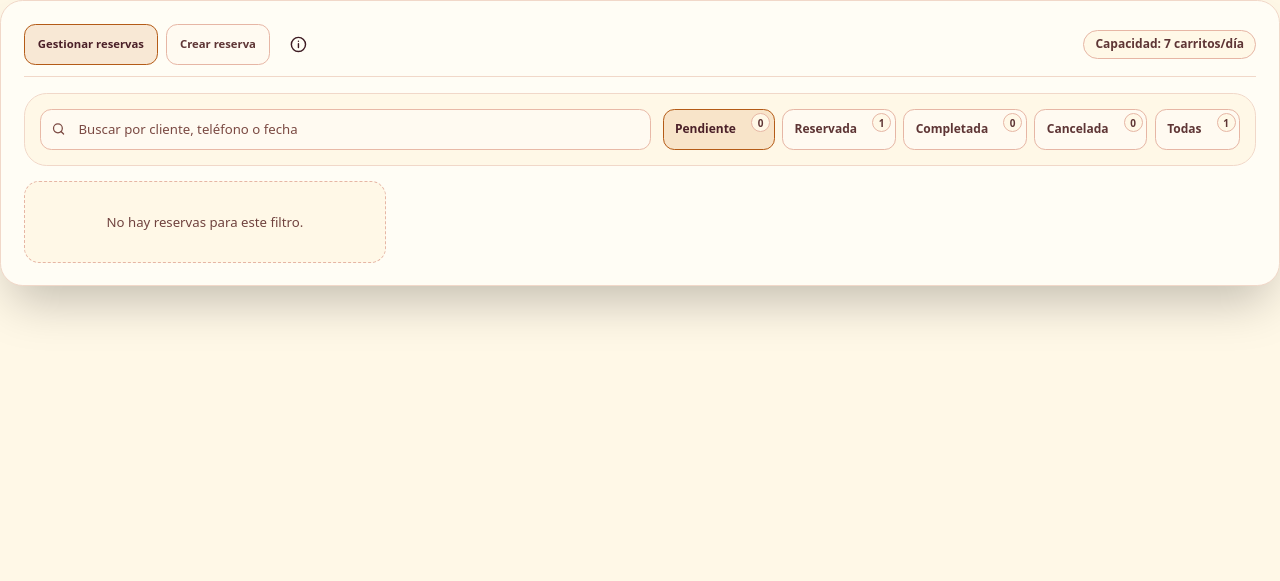
Test: EventReservationWorkspace › stacks existing payment methods and keeps the initial receipt exclusive to the initial transfer
Click the button with aria-label "Todas: 1 reservas" at (1198, 129), box [1155,109,1240,150]
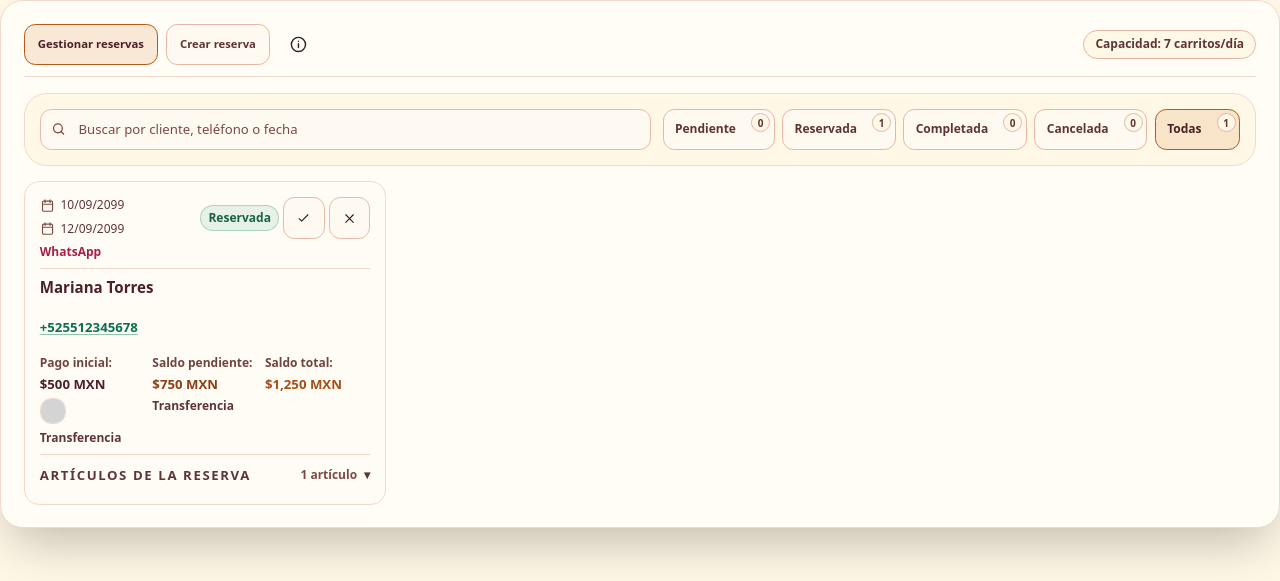
expect the text "$500 MXN" is shown: met, box [40,375,105,393]
expect the element showing "Transferencia" below "$500 MXN" is shown: met, box [40,429,121,446]
expect the text "$750 MXN" is shown: met, box [152,375,218,393]
